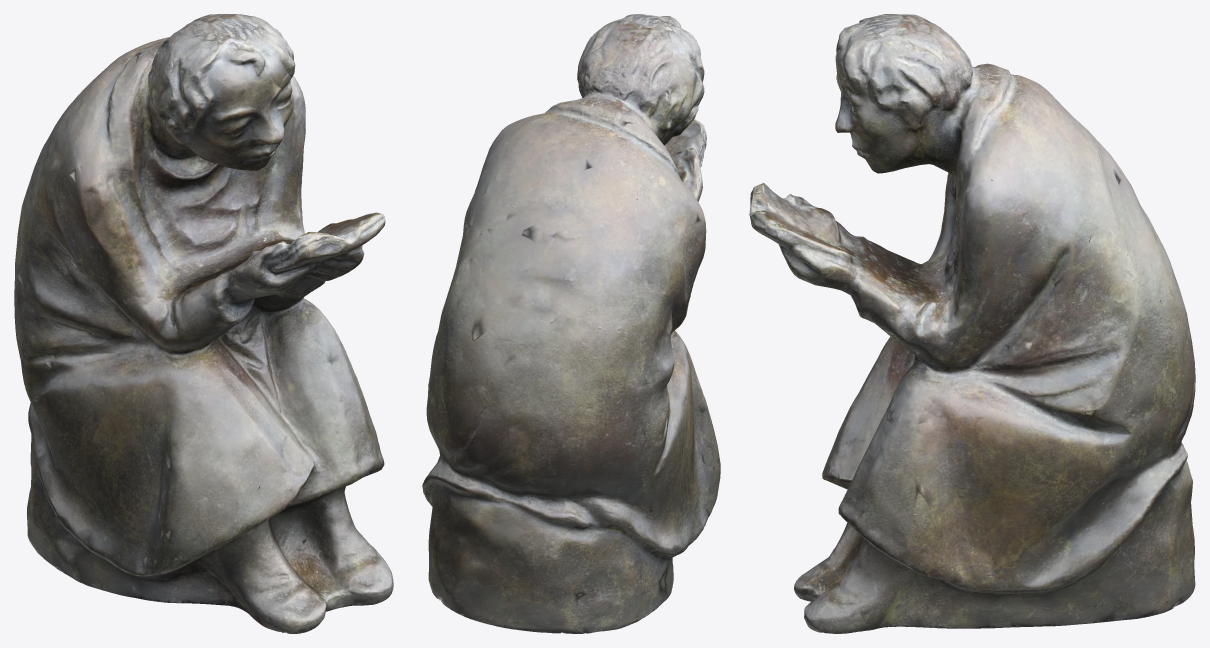
The model's file is preview.glb.
3 views of the same model, side by side, from view 1: azimuth 30°, elevation 25°; view 2: azimuth 150°, elevation 25°; view 3: azimuth 270°, elevation 25° (orthographic). The views are drawn at different scales.
Parts seen in each view (by area): view 1: Object_2; view 2: Object_2; view 3: Object_2.
Part boxes in pixels (x1,y1,x2,y2): Object_2: (14,14,393,633); Object_2: (422,14,720,633); Object_2: (749,14,1195,633).
Size of the model in its own units: 15.86 by 32.35 by 23.23.
Materials: 1 (1 with a texture image).
